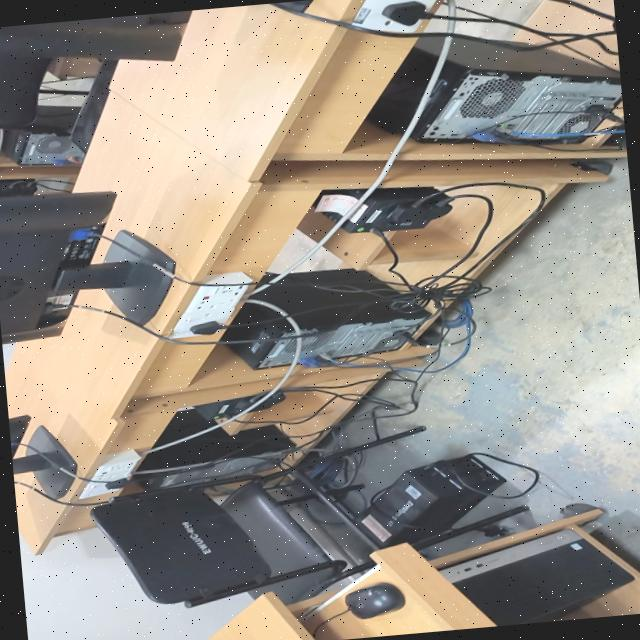Chair: (90, 478, 346, 607), (0, 54, 115, 152)
Cpu: (415, 39, 622, 142), (221, 268, 428, 369), (439, 529, 632, 626), (132, 426, 293, 489), (5, 133, 82, 165), (152, 410, 214, 446)
Monitor: (0, 192, 174, 344), (0, 10, 192, 128), (11, 425, 75, 498)
Mouse: (344, 583, 403, 619)
